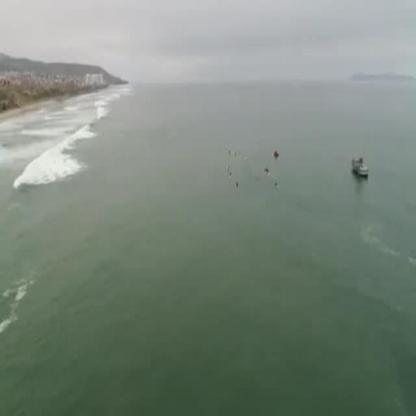Boat: (350, 149, 374, 180)
